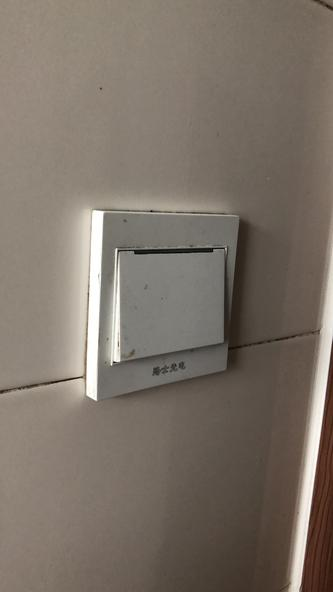switch: (116, 243, 227, 356)
